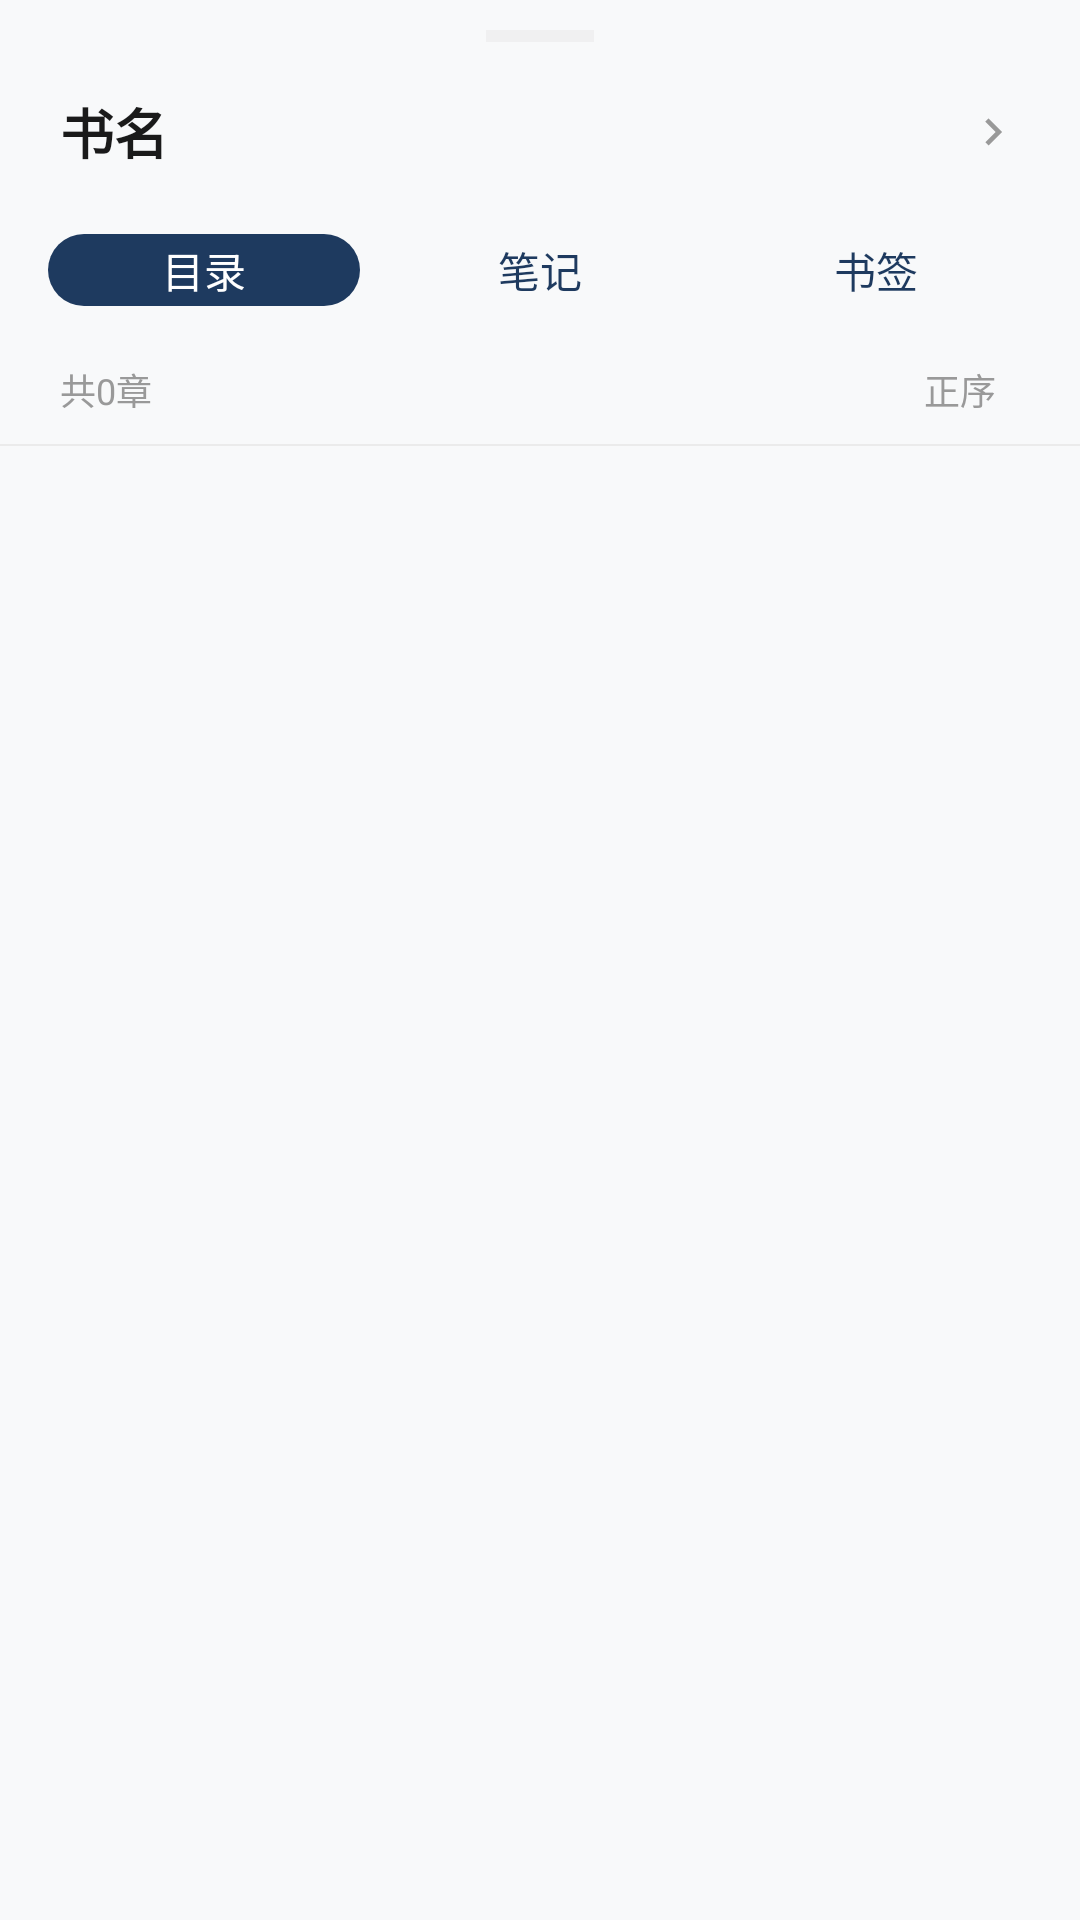

Icon bounding boxes for this 1080x1920 phone screenshot, format (x1, y1, x2, y2):
详情: (985, 118, 1002, 145)
